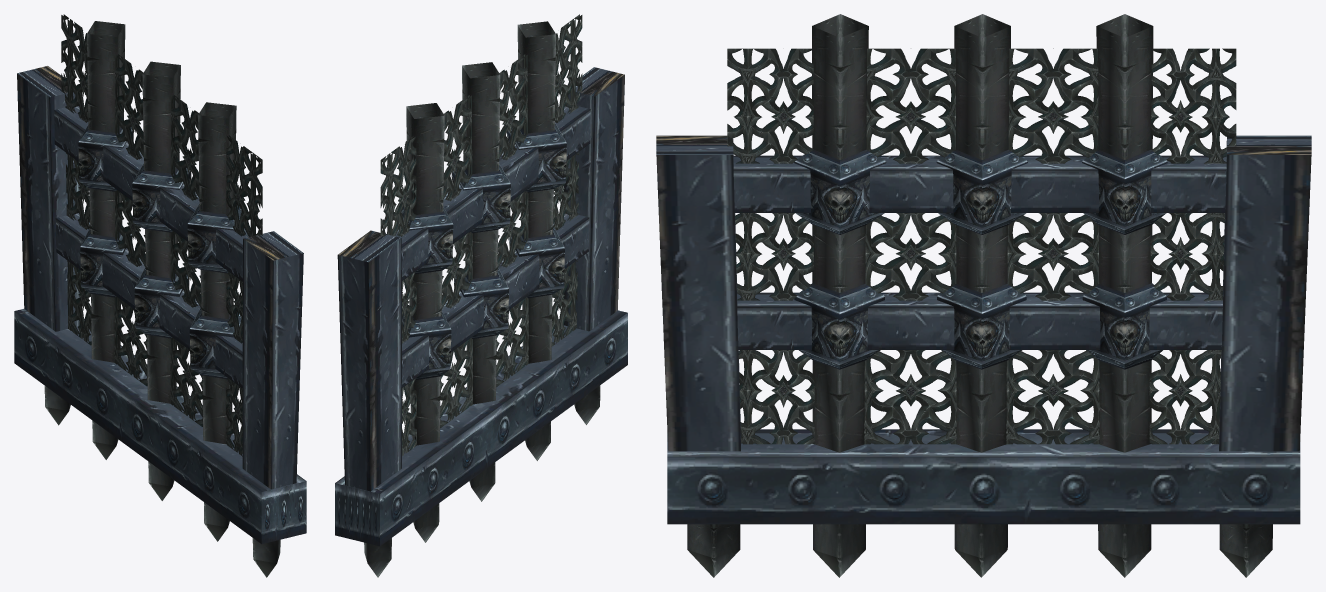
File: Gate_Door.fbx
3 renders of one model, left to right at view 1: azimuth 30°, elevation 25°; view 2: azimuth 150°, elevation 25°; view 3: azimuth 270°, elevation 25°, orthographic. The views are drawn at different scales.
Visible parts, largest first — view 1: icecrown_portcullis_01; view 2: icecrown_portcullis_01; view 3: icecrown_portcullis_01.
Boxes of the visible parts, x1,y1,x2,y2 form: icecrown_portcullis_01: (14,14,306,577); icecrown_portcullis_01: (335,14,627,577); icecrown_portcullis_01: (656,14,1311,577).
Bounding box in the file's own units: 79.34 × 547 × 588.
